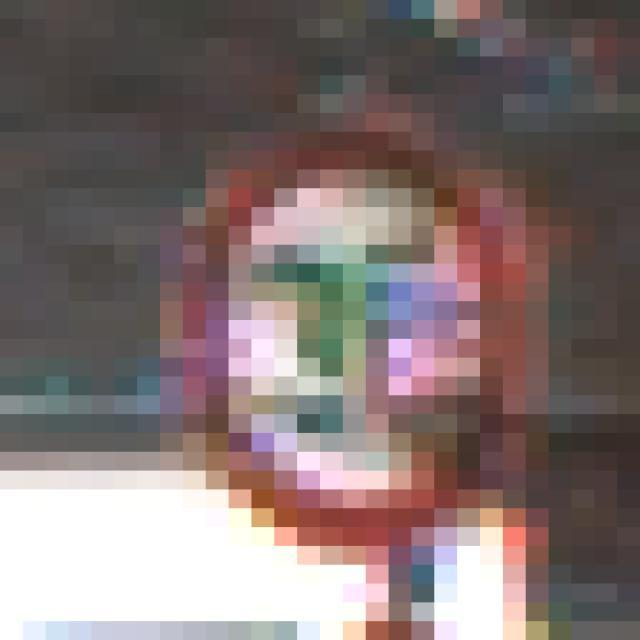Speed Limit -30-: (126, 84, 514, 536)
